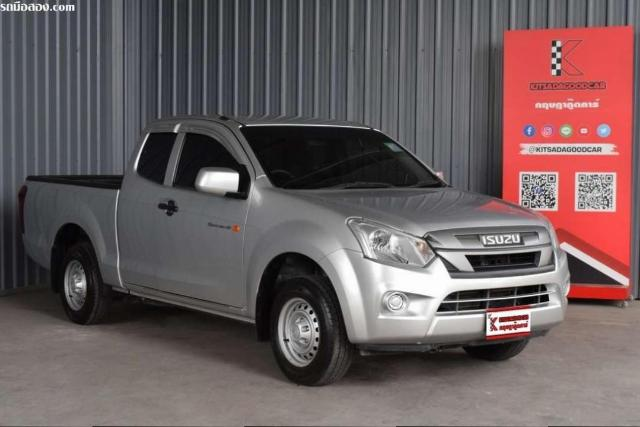pickup-truck: (18, 117, 569, 389)
